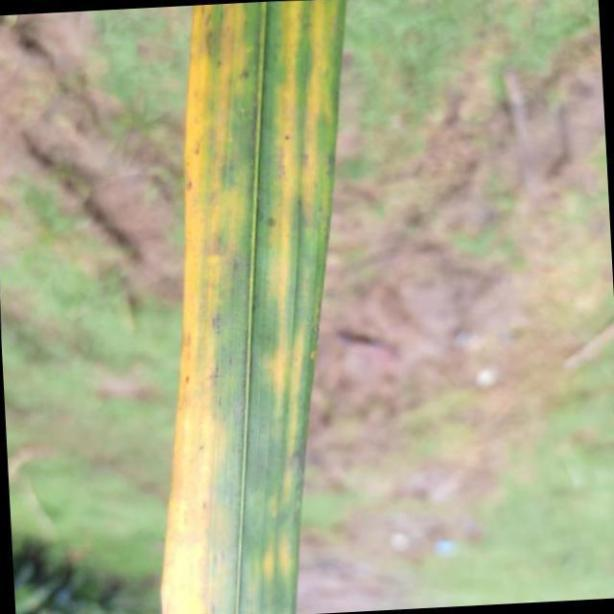Megnesium: (161, 0, 347, 614)
